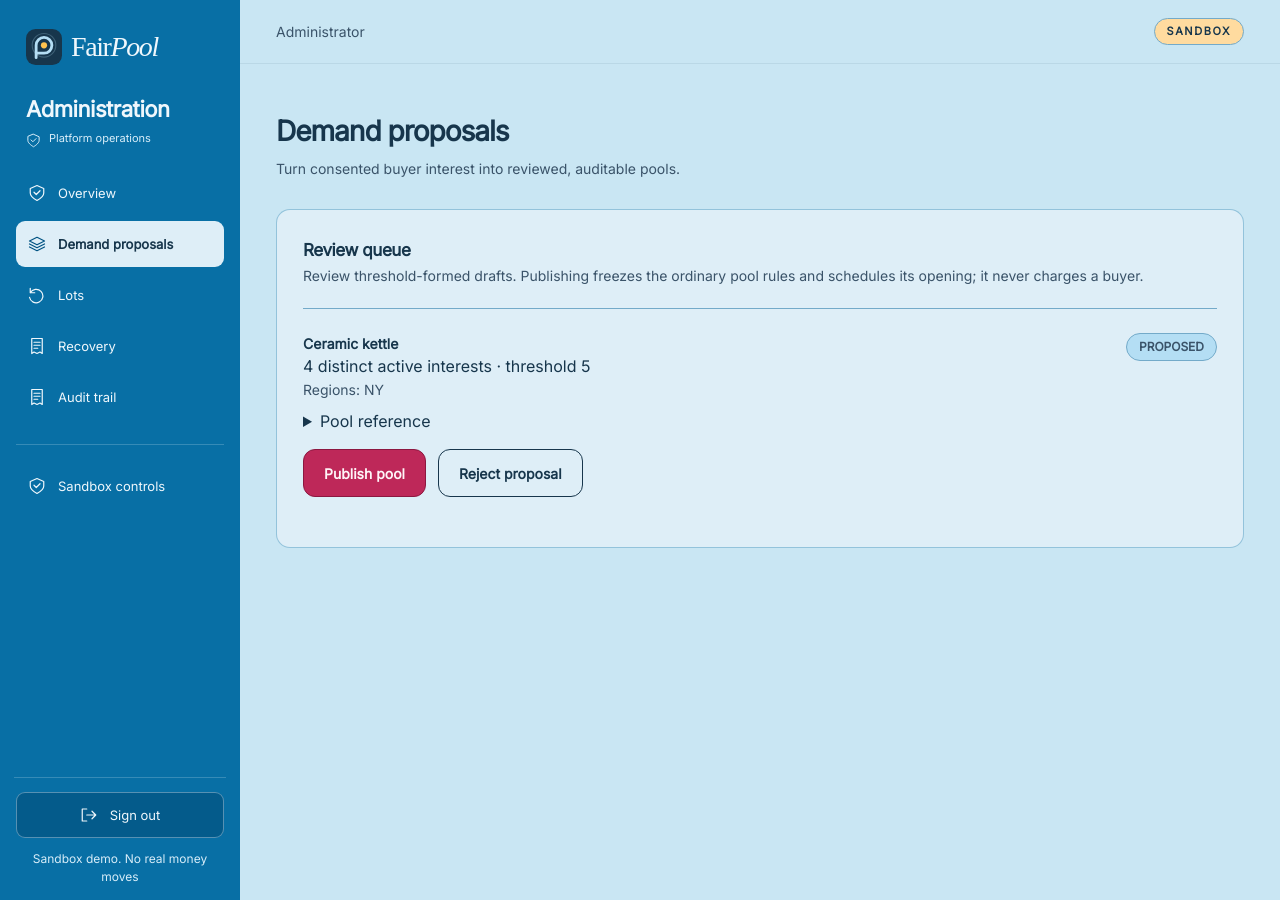
Test: keeps failed publication actionable
This screenshot has width=1280, height=900.
Click the button "Publish pool": (364, 473) [303,449,426,497]
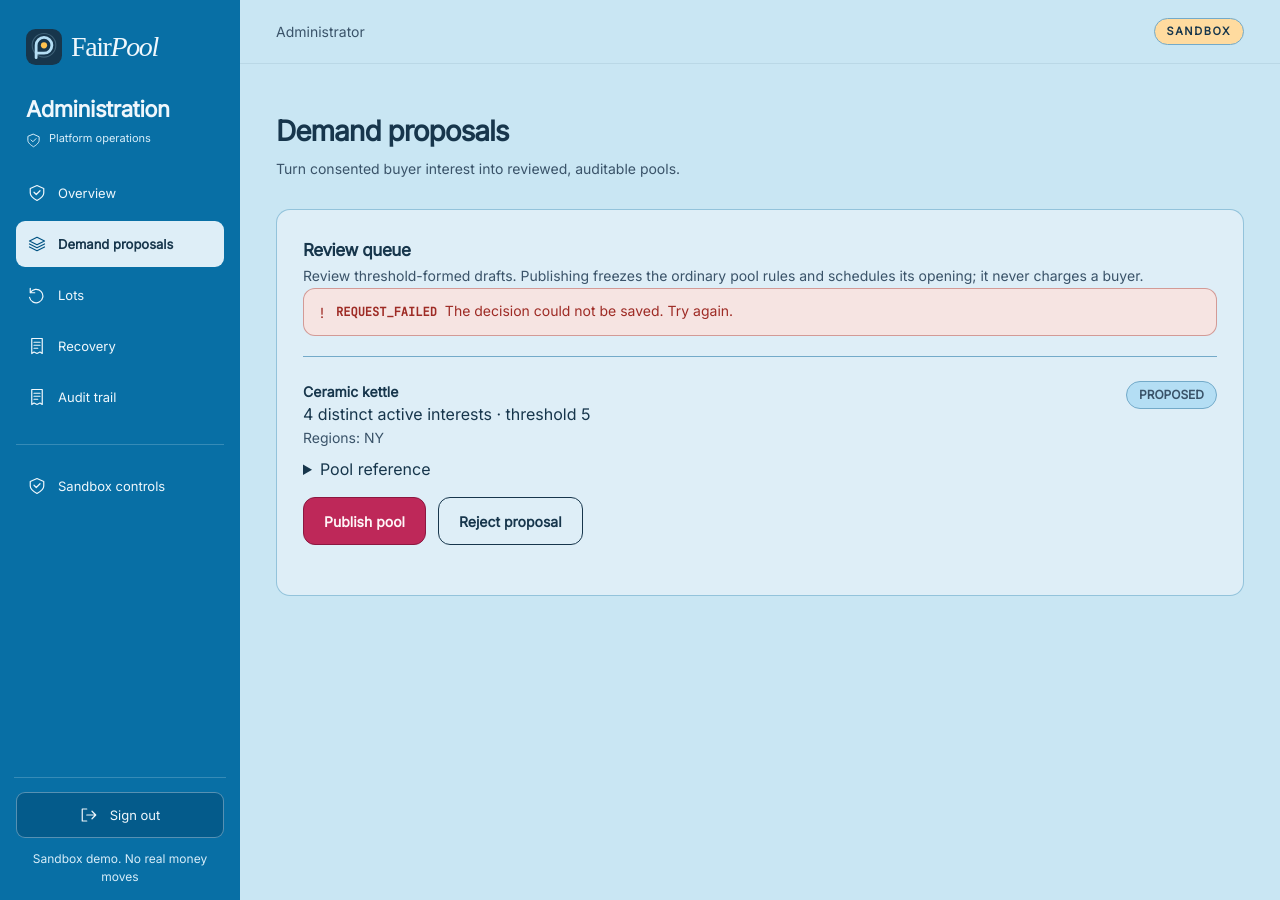
Expected: the button "Publish pool" is enabled, [303,497,426,545]
Expected: the message that starts with "REQUEST_FAILED" shows "could not be saved", [445,302,733,319]
